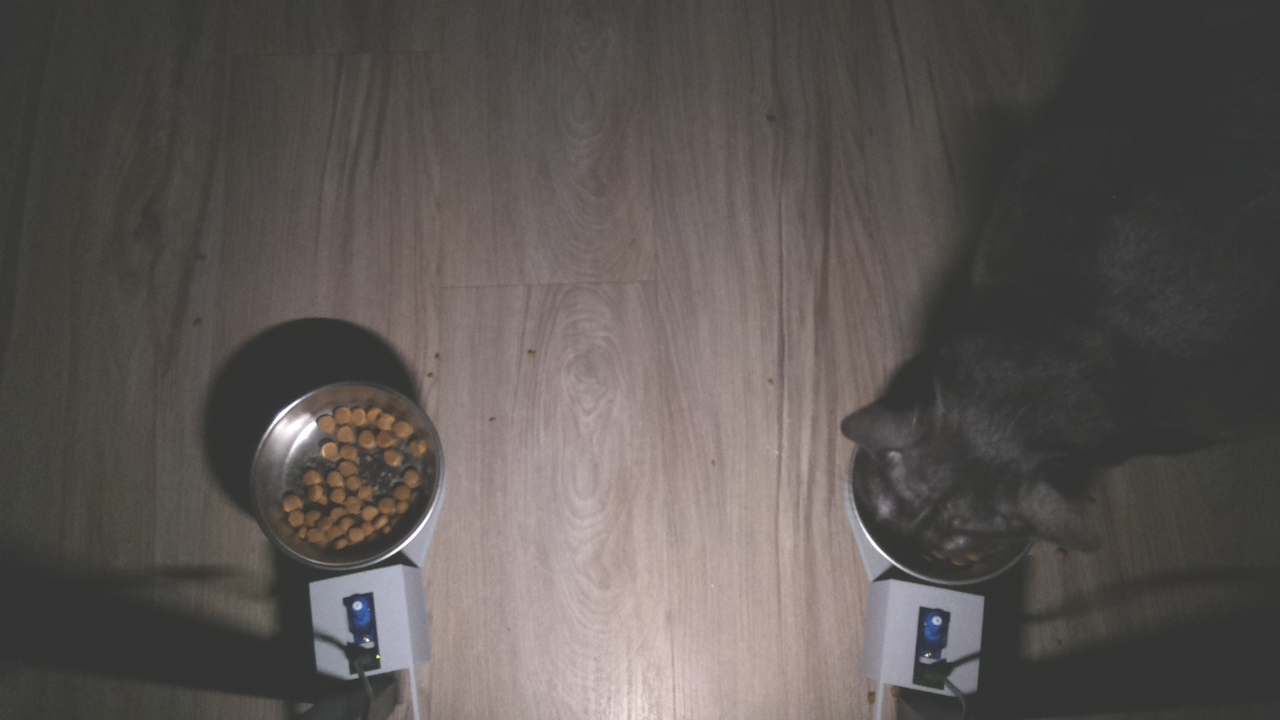open_bowl: (245, 370, 455, 583)
saki_eating: (836, 346, 1114, 593)
